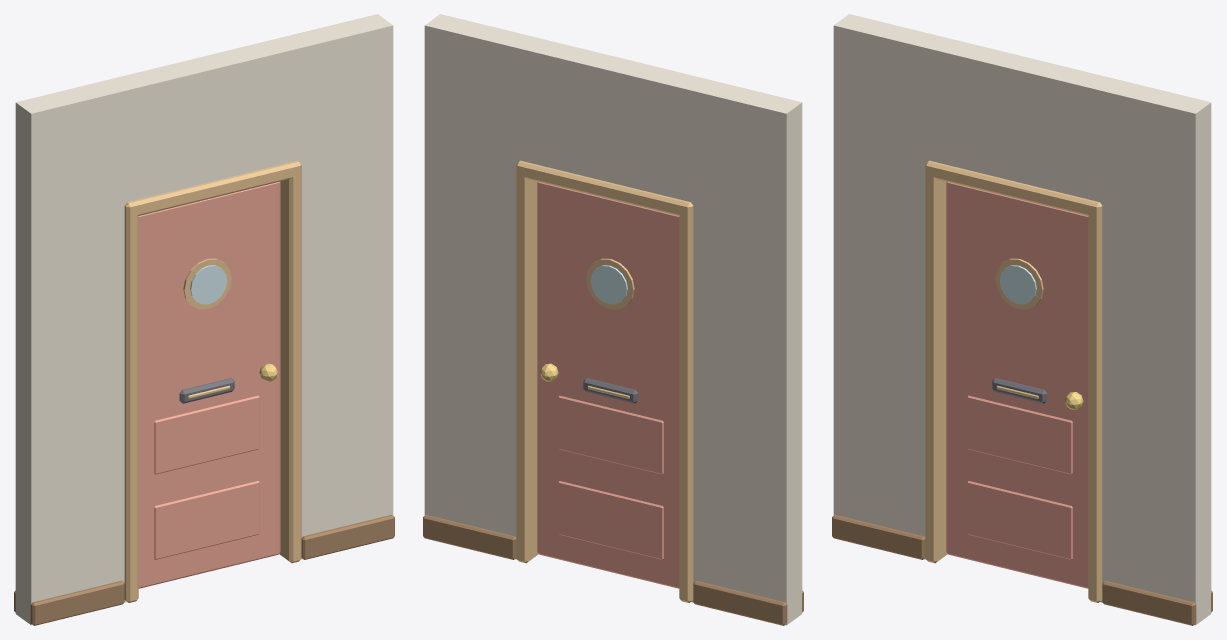
Rendered from cozy-home-interiors-wall-front-door-2m-067c8287.glb.
The picture shows the model from 3 angles, left to right: view 1: azimuth 30°, elevation 25°; view 2: azimuth 150°, elevation 25°; view 3: azimuth 330°, elevation 25°; orthographic projection.
Parts seen in each view (by area): view 1: wall-front-door-2m, door, door-glass, door-oak, door-charcoal; view 2: wall-front-door-2m, door, door-glass, door-oak, door-charcoal; view 3: wall-front-door-2m, door, door-glass, door-oak, door-charcoal.
Boxes of the visible parts, <box> form: wall-front-door-2m: <box>14,14,394,625</box>; door: <box>138,181,280,588</box>; door-glass: <box>190,265,227,304</box>; door-oak: <box>183,258,231,398</box>; door-charcoal: <box>179,378,234,403</box>; wall-front-door-2m: <box>423,14,803,625</box>; door: <box>537,181,679,588</box>; door-glass: <box>590,265,627,304</box>; door-oak: <box>586,258,634,398</box>; door-charcoal: <box>583,378,638,403</box>; wall-front-door-2m: <box>832,14,1212,625</box>; door: <box>946,181,1088,588</box>; door-glass: <box>999,265,1036,304</box>; door-oak: <box>995,258,1043,398</box>; door-charcoal: <box>992,378,1047,403</box>.
Size of the model in its own units: 2 by 2.7 by 0.21.
